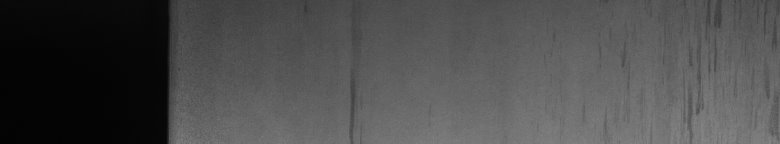ka: (680, 4, 769, 136)
